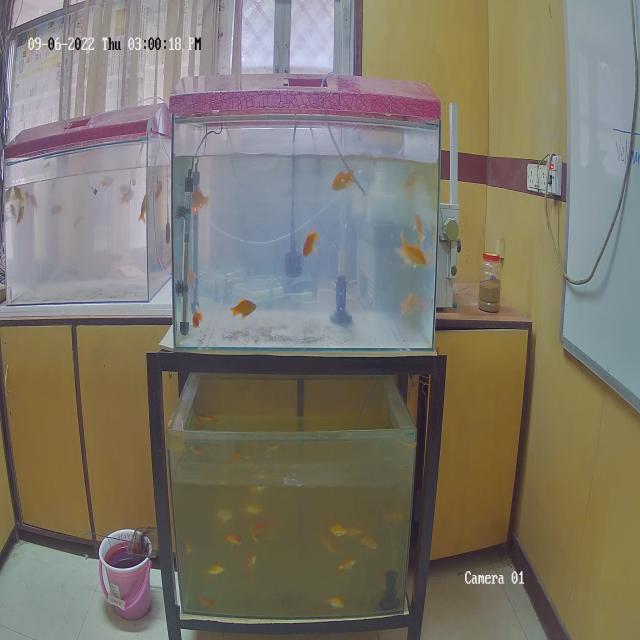goldfish: (231, 296, 256, 318)
